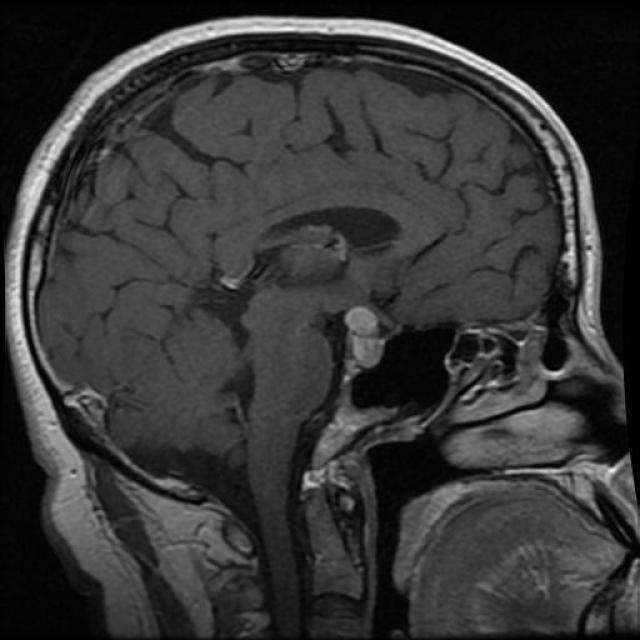pituitary: (327, 290, 405, 384)
